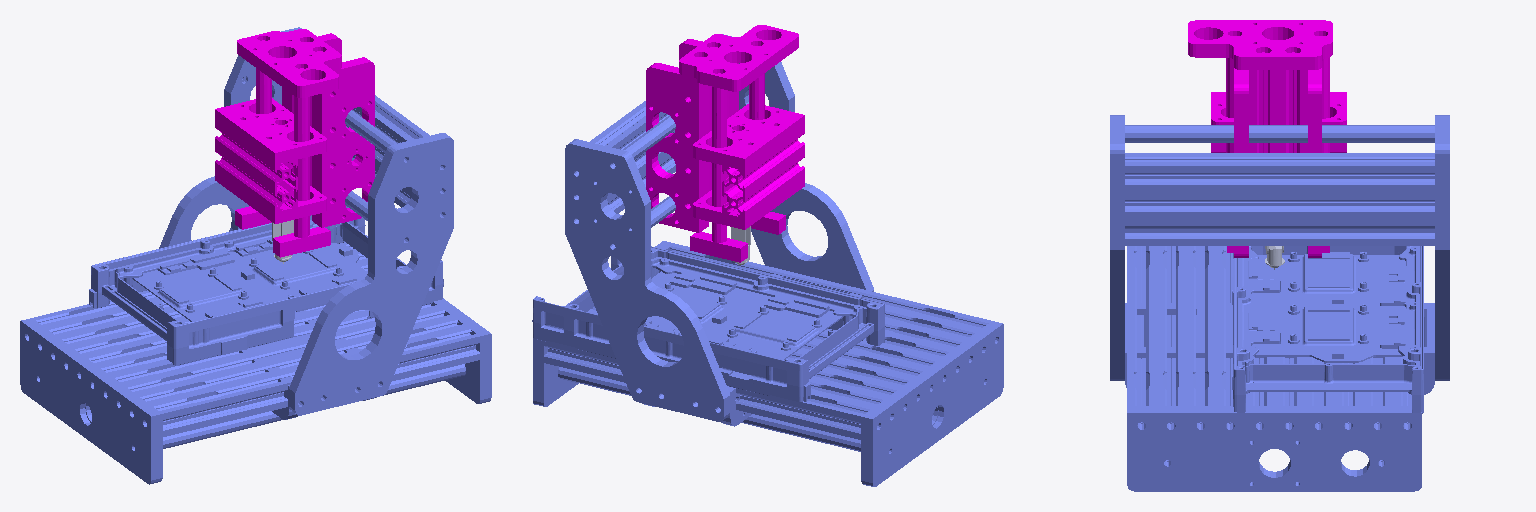
robot.urdf — KDD_RoboArm:
<?xml version="1.0" encoding="utf-8"?>
<!-- This URDF was automatically created by SolidWorks to URDF Exporter! Originally created by [author] ([email redacted]) 
     Commit Version: 1.6.0-1-g15f4949  Build Version: 1.6.7594.29634
     For more information, please see http://wiki.ros.org/sw_urdf_exporter -->
<robot
  name="KDD_RoboArm">
  <gazebo>
    <plugin name="gazebo_ros_control" filename="libgazebo_ros_control.so">
      <robotNamespace>/KDD_RoboArm</robotNamespace>
    </plugin>
  </gazebo>
  <link
    name="base_link">
    <inertial>
      <origin
        xyz="-0.025112 -0.00018578 0.019008"
        rpy="0 0 0" />
      <mass
        value="1729.3927673525" />
      <inertia
        ixx="475.397369733653"
        ixy="34.5663756406899"
        ixz="-1.79934549289071"
        iyy="1072.78236249213"
        iyz="-1.69210564621586"
        izz="1103.62478080047" />
    </inertial>
    <visual>
      <origin
        xyz="0 0 0"
        rpy="0 0 0" />
      <geometry>
        <mesh
          filename="package://KDD_RoboArm/meshes/base_link.STL" />
      </geometry>
      <material
        name="">
        <color
          rgba="0.52941 0.6 1 1" />
      </material>
    </visual>
    <collision>
      <origin
        xyz="0 0 0"
        rpy="0 0 0" />
      <geometry>
        <mesh
          filename="package://KDD_RoboArm/meshes/base_link.STL" />
      </geometry>
    </collision>
  </link>
  <link
    name="x_link">
    <inertial>
      <origin
        xyz="0.0079741 -0.00011913 0.078495"
        rpy="0 0 0" />
      <mass
        value="1.5957" />
      <inertia
        ixx="0.0042058"
        ixy="-8.1189E-13"
        ixz="1.3549E-07"
        iyy="0.0076559"
        iyz="-2.5549E-05"
        izz="0.0044974" />
    </inertial>
    <visual>
      <origin
        xyz="0 0 0"
        rpy="0 0 0" />
      <geometry>
        <mesh
          filename="package://KDD_RoboArm/meshes/front_end_link.STL" />
      </geometry>
      <material
        name="">
        <color
          rgba="0.52941 0.6 1 1" />
      </material>
    </visual>
    <collision>
      <origin
        xyz="0 0 0"
        rpy="0 0 0" />
      <geometry>
        <mesh
          filename="package://KDD_RoboArm/meshes/front_end_link.STL" />
      </geometry>
    </collision>
  </link>
  <joint
    name="bx_joint"
    type="prismatic">
    <origin
      xyz="0 0 0"
      rpy="0 0 0" />
    <parent
      link="base_link" />
    <child
      link="x_link" />
    <axis
      xyz="1 0 0" />
    <!-- New -->
    <dynamics
      damping="0.8"
      friction="0.5"/>
    <!-- New -->
    <limit
      lower="-0.15"
      upper="0.15"
      effort="240"
      velocity="0.3" />
    <!--safety_controller
      soft_upper="0.15"
      soft_lower="-0.15"
      k_velocity="0" /-->
  </joint>
  <link
    name="y_link">
    <inertial>
      <origin
        xyz="0.002362 0.023475 0.17083"
        rpy="0 0 0" />
      <mass
        value="5.272" />
      <inertia
        ixx="0.021924"
        ixy="-4.5762E-06"
        ixz="0.0018667"
        iyy="0.032682"
        iyz="-7.7909E-07"
        izz="0.030507" />
    </inertial>
    <visual>
      <origin
        xyz="0 0 0"
        rpy="0 0 0" />
      <geometry>
        <mesh
          filename="package://KDD_RoboArm/meshes/left_right_link.STL" />
      </geometry>
      <material
        name="">
        <color
          rgba="1 0 1 1" />
      </material>
    </visual>
    <collision>
      <origin
        xyz="0 0 0"
        rpy="0 0 0" />
      <geometry>
        <mesh
          filename="package://KDD_RoboArm/meshes/left_right_link.STL" />
      </geometry>
    </collision>
  </link>
  <joint
    name="xy_joint"
    type="prismatic">
    <origin
      xyz="0 0 0"
      rpy="0 0 0" />
    <parent
      link="x_link" />
    <child
      link="y_link" />
    <axis
      xyz="0 1 0" />
    <dynamics
      damping="0.8"
      friction="0.5"/>
    <limit
      lower="-0.1"
      upper="0.1"
      effort="70"
      velocity="0.2" />
    <!--safety_controller
      soft_upper="0.1"
      soft_lower="-0.1"
      k_velocity="0" /-->
  </joint>
  <link
    name="z_link">
    <inertial>
      <origin
        xyz="-0.0343 0.025001 0.14574"
        rpy="0 0 0" />
      <mass
        value="2.2792" />
      <inertia
        ixx="0.0091615"
        ixy="1.5787E-08"
        ixz="0.00018817"
        iyy="0.0096145"
        iyz="6.3703E-09"
        izz="0.0051301" />
    </inertial>
    <visual>
      <origin
        xyz="0 0 0"
        rpy="0 0 0" />
      <geometry>
        <mesh
          filename="package://KDD_RoboArm/meshes/up_down_link.STL" />
      </geometry>
      <material
        name="">
        <color
          rgba="1 0 1 1" />
      </material>
    </visual>
    <collision>
      <!--origin
        xyz="0 0 0"
        rpy="0 0 0" />
      <geometry>
        <mesh
          filename="package://KDD_RoboArm/meshes/up_down_link.STL" />
      </geometry-->
      <origin
        xyz="-0.004 0.004 0.1754"
        rpy="0 0 0" />
      <geometry>
        <box
          size="0.024 0.09 0.06" />
      </geometry>
    </collision>
  </link>
  <joint
    name="yz_joint"
    type="prismatic">
    <origin
      xyz="0 0 0"
      rpy="0 0 0" />
    <parent
      link="y_link" />
    <child
      link="z_link" />
    <axis
      xyz="0 0 1" />
    <dynamics
      damping="0.8"
      friction="0.5"/>
    <limit
      lower="-0.03"
      upper="0.03"
      effort="90"
      velocity="0.2" />
    <!--safety_controller
      soft_upper="0.03"
      soft_lower="-0.03"
      k_velocity="0" /-->
  </joint>
<link
  name="nozzlebase_Link">
  <inertial>
    <!--origin
      xyz="0 0 0.022"
      rpy="0 0 0" />
    <origin
      xyz="-0.020442 0.025103 0.098498"
      rpy="0 0 0" /-->
   <!-- with chip1 -->
    <origin
      xyz="1.6339E-06 -1.2846E-05 -0.016502"
      rpy="0 0 0" />
    <mass
      value="0.0023793" />
    <inertia
      ixx="2.0288E-07"
      ixy="2.6567E-10"
      ixz="1.0226E-10"
      iyy="2.0095E-07"
      iyz="-7.5613E-10"
      izz="6.5556E-08" />
   <!---->
    <!--mass
      value="0.08925139" />
    <inertia
      ixx="0.00000536"
      ixy="0"
      ixz="0"
      iyy="0.00000536"
      iyz="0"
      izz="0.00000286" /-->
  </inertial>
  <visual>
   <!-- with chip1 -->
    <origin
      xyz="0.020443 -0.025116 -0.115"
      rpy="0 0 0" />
   <!---->
    <!--origin
      xyz="0 0 -0.0125"
      rpy="0 0 0" /-->
    <geometry>
      <!--cylinder
        radius="0.008"
        length="0.023" /-->
      <mesh
        filename="package://KDD_RoboArm/meshes/nozzlebase_Link.STL" />
    </geometry>
    <material
      name="">
      <color
        rgba="0.79216 0.81961 0.93333 1" />
    </material>
  </visual>
  <collision>
   <!-- with chip1 -->
    <origin
      xyz="0.020443 -0.025116 -0.115"
      rpy="0 0 0" />
    <geometry>
      <mesh
        filename="package://KDD_RoboArm/meshes/nozzlebase_Link.STL" />
    </geometry>
   <!---->
    <!--origin
      xyz="0 0 -0.0125"
      rpy="0 0 0" />
    <geometry>
      <cylinder
        radius="0.008"
        length="0.023" />
    </geometry-->
  </collision>
</link>
<joint
  name="nozzlebase_joint"
  type="fixed">
  <!--origin
    xyz="0 0 0"
    rpy="0 0 0" /-->
  <origin
    xyz="0 0 0.143"
    rpy="0 0 0" />
  <parent
    link="z_link" />
  <child
    link="nozzlebase_Link" />
  <axis
    xyz="0 0 0" />
  <!--dynamics
    damping="0.0001"
    friction="0.9" />
  <limit
    lower="-1.57"
    upper="1.57"
    effort="1"
    velocity="1" /-->
</joint>
<link
  name="nozzle_Link">
  <inertial>
   <!--with chip1-->
    <origin
      xyz="-4.2857E-07 -2.3467E-06 -0.0079793"
      rpy="0 0 0" />
    <mass
      value="0.0016233" />
    <inertia
      ixx="3.9985E-08"
      ixy="-1.1612E-09"
      ixz="-4.6636E-12"
      iyy="4.8413E-08"
      iyz="-2.5537E-11"
      izz="2.9368E-08" />
   <!---->
    <!--origin
      xyz="0 0 -0.022"
      rpy="0 0 0" />
    <mass
      value="0.00504768" />
    <inertia
      ixx="0.00000058"
      ixy="0"
      ixz="0"
      iyy="0.00000058"
      iyz="0"
      izz="0.00000001" /-->
  </inertial>
  <visual>
   <!-- with chip1-->
    <origin
      xyz="0.020365 -0.025099 -0.081278"
      rpy="0 0 0" />
    <geometry>
      <mesh
        filename="package://KDD_RoboArm/meshes/nozzle_Link.STL" />
    </geometry>
   <!---->
    <!--origin
      xyz="0 0 -0.022"
      rpy="0 0 0" />
    <geometry>
      <cylinder
        radius="0.0015"
        length="0.037" />
    </geometry-->
    <material
      name="">
      <color
        rgba="0.79216 0.81961 0.93333 1" />
    </material>
  </visual>
  <collision>
   <!-- with chip1-->
    <origin
      xyz="0.020365 -0.025099 -0.081278"
      rpy="0 0 0" />
    <geometry>
      <mesh
        filename="package://KDD_RoboArm/meshes/nozzle_Link.STL" />
    </geometry>
   <!---->
    <!--origin
      xyz="0 0 -0.022"
      rpy="0 0 0" />
    <geometry>
      <cylinder
        radius="0.0015"
        length="0.037" />
    </geometry-->
  </collision>
</link>
<joint
  name="nozzle_joint"
  type="fixed">
  <origin
    xyz="0 0 -0.038"
    rpy="0 0 0" />
  <parent
    link="nozzlebase_Link" />
  <child
    link="nozzle_Link" />
  <axis
    xyz="0 0 0" />
  <!--dynamics
    damping="0.0001"
    friction="0.9" />
  <limit
    lower="-0.7"
    upper="0.7"
    effort="1"
    velocity="1" />
  <safety_controller
    soft_upper="0.7"
    soft_lower="-0.7"
    k_velocity="0" /-->
</joint>
  <!-- New -->
  <transmission name="bx">
      <type>transmission_interface/SimpleTransmission</type>
    <actuator name="bx_motor">
    </actuator>
    <joint name="bx_joint">
      <hardwareInterface>EffortJointInterface</hardwareInterface>
    </joint>
    <mechanicalReduction>50.0</mechanicalReduction>
      <motorTorqueConstant>1.0</motorTorqueConstant>
  </transmission>
  <!-- New -->
  <transmission name="xy">
      <type>transmission_interface/SimpleTransmission</type>
    <actuator name="xy_motor">
    </actuator>
    <joint name="xy_joint">
      <hardwareInterface>EffortJointInterface</hardwareInterface>
    </joint>
    <mechanicalReduction>50.0</mechanicalReduction>
      <motorTorqueConstant>1.0</motorTorqueConstant>
  </transmission>
  <transmission name="yz">
      <type>transmission_interface/SimpleTransmission</type>
    <actuator name="yz_motor">
    </actuator>
    <joint name="yz_joint">
      <hardwareInterface>EffortJointInterface</hardwareInterface>
    </joint>
    <mechanicalReduction>50.0</mechanicalReduction>
      <motorTorqueConstant>1.0</motorTorqueConstant>
  </transmission>
  <!--transmission name="nozzlebase">
    <type>transmission_interface/SimpleTransmission</type>
    <actuator name="nozzlebase_motor">
    </actuator>
    <joint name="nozzlebase_joint">
      <hardwareInterface>EffortJointInterface</hardwareInterface>
    </joint>
    <mechanicalReduction>10.0</mechanicalReduction>
    <motorTorqueConstant>1.0</motorTorqueConstant>
  </transmission>
  <transmission name="nozzle">
    <type>transmission_interface/SimpleTransmission</type>
    <actuator name="nozzle_motor">
    </actuator>
    <joint name="nozzle_joint">
      <hardwareInterface>EffortJointInterface</hardwareInterface>
    </joint>
    <mechanicalReduction>10.0</mechanicalReduction>
    <motorTorqueConstant>1.0</motorTorqueConstant>
  </transmission-->
<!-- New -->
  <gazebo reference="bx_joint">
    <erp>0.1</erp>
    <stopKd value="100000000.0" />
    <stopKp value="100000000.0" />
    <fudgeFactor value="0.1" />
  </gazebo>
 <!-- New -->
  <gazebo reference="xy_joint">
    <erp>0.1</erp>
    <stopKd value="100000000.0" />
    <stopKp value="100000000.0" />
    <fudgeFactor value="0.1" />
  </gazebo>
  <gazebo reference="yz_joint">
    <erp>0.1</erp>
    <stopKd value="100000000.0" />
    <stopKp value="100000000.0" />
    <fudgeFactor value="0.1" />
  </gazebo>
  <gazebo reference="base_link">
    <mu1>1</mu1>
    <mu2>1</mu2>
    <fdir1>1 0 0</fdir1>
    <minDepth>0.001</minDepth>
  </gazebo>
  <gazebo reference="nozzlebase_joint">
    <erp>0.1</erp>
    <stopKd value="100000000.0" />
    <stopKp value="100000000.0" />
    <fudgeFactor value="0.1" />
  </gazebo>
  <gazebo reference="nozzle_joint">
    <erp>0.1</erp>
    <stopKd value="100000000.0" />
    <stopKp value="100000000.0" />
    <fudgeFactor value="0.1" />
  </gazebo>
</robot>

--- Facts derived from the render (not from the file) ---
Views: 3 orthographic renders of the robot side by side, from view 1: azimuth 30°, elevation 25°; view 2: azimuth 150°, elevation 25°; view 3: azimuth 270°, elevation 25°.
Robot: KDD_RoboArm — 6 links, 5 joints (3 prismatic, 2 fixed); root link base_link; default pose: every joint at zero.
Visible links, largest first — view 1: base_link, x_link, y_link, z_link; view 2: base_link, x_link, y_link, z_link; view 3: base_link, x_link, y_link, z_link.
Boxes of the visible links, x1,y1,x2,y2 form: base_link: (20,206,491,484); x_link: (159,27,453,419); y_link: (235,29,374,257); z_link: (215,98,326,223); base_link: (532,241,1003,486); x_link: (565,34,873,426); y_link: (646,25,798,262); z_link: (693,104,804,229); base_link: (1127,246,1423,491); x_link: (1110,115,1449,394); y_link: (1188,20,1332,257); z_link: (1211,92,1346,152).
Bounding box of the posed robot: 0.3003 × 0.23 × 0.2839 m (x, y, z).
Meshes: 6 distinct files referenced, 6 mesh visuals loaded (6 binary STL).